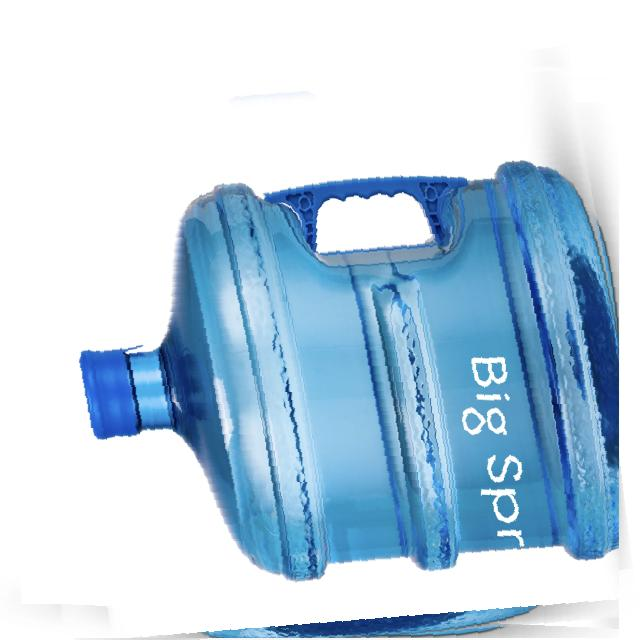recyclable: (23, 43, 619, 638)
